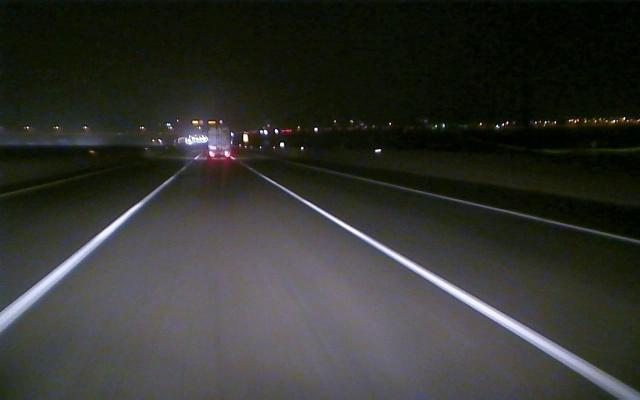lane: (268, 177, 636, 396), (3, 182, 165, 332), (352, 174, 640, 245), (0, 165, 126, 199)
